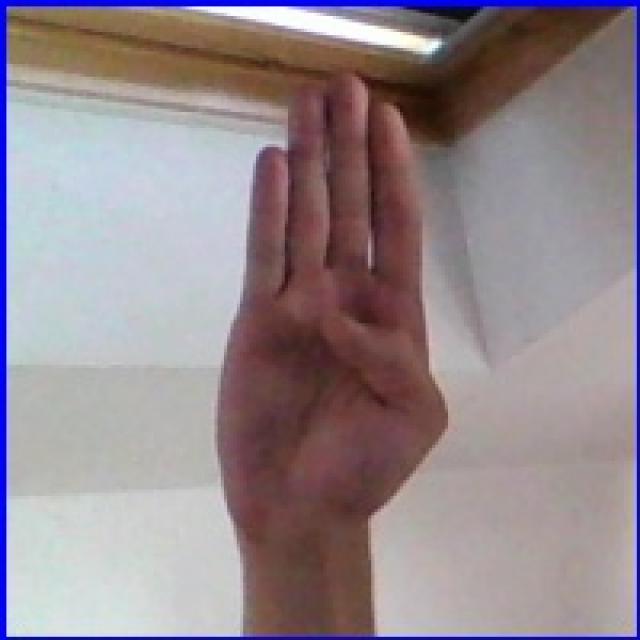Letra B: (185, 60, 482, 574)
